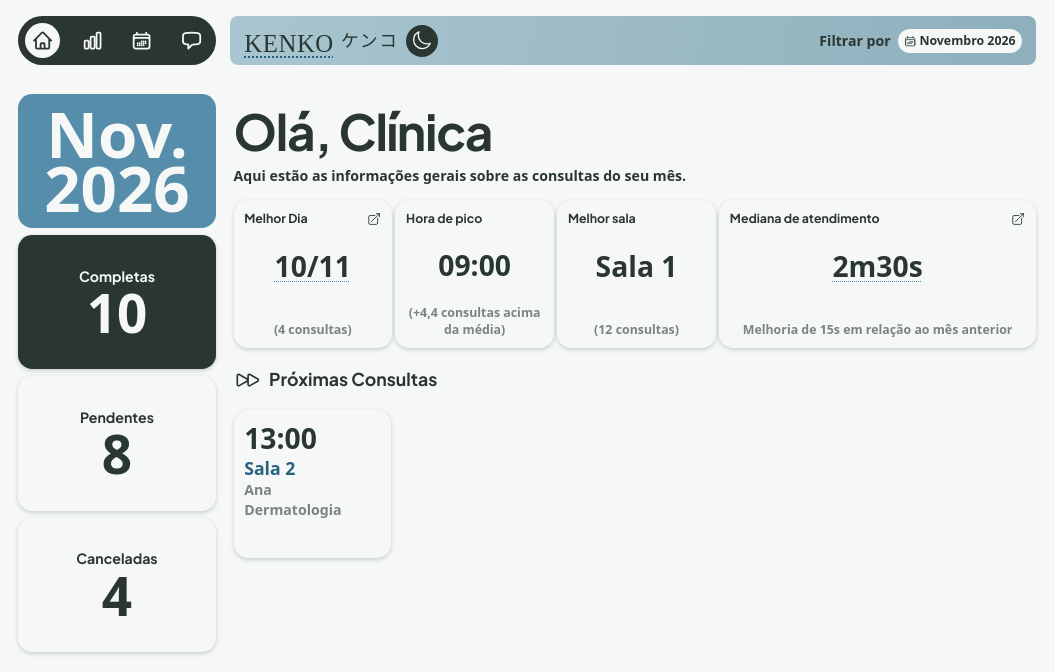
Test case: altera o período visual e mantém os dados do mock
Later steps or results of the test are not shown.
Click the heading named "Mês e ano": (960, 41) [898,29,1022,53]
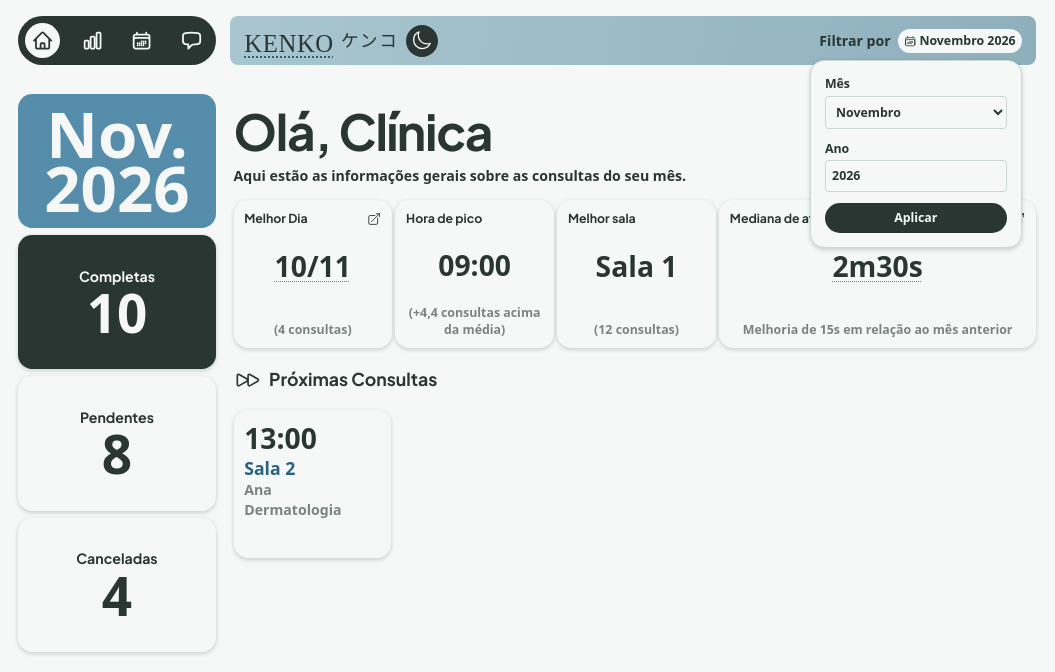
Select "Fevereiro" in the dropdown labelled "Mês": (916, 112) [825,96,1007,129]
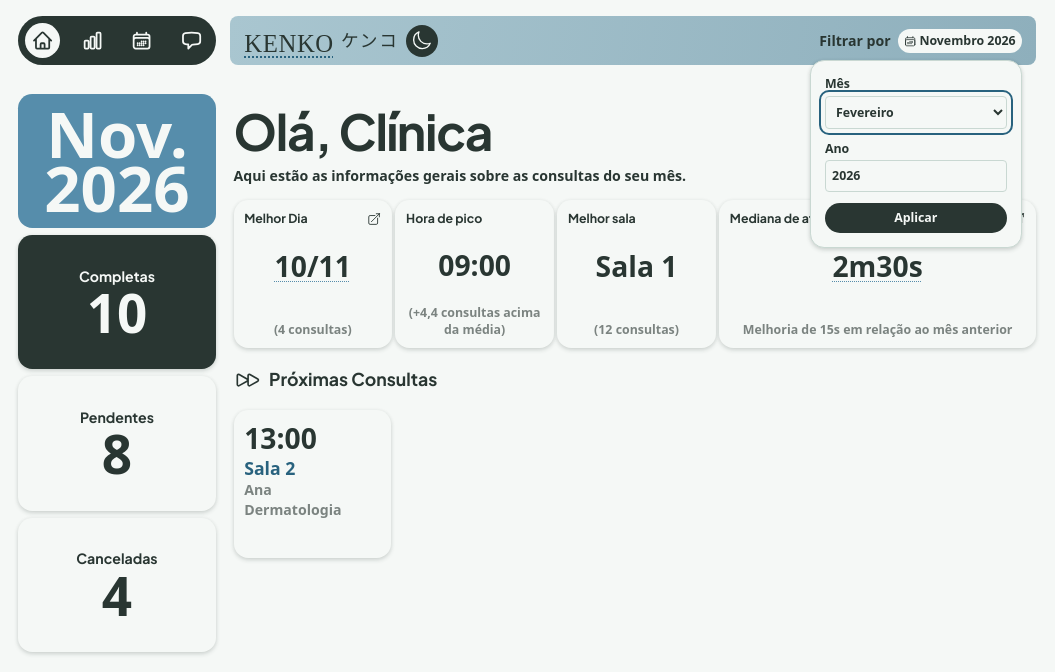
Replace the text in the number field labelled "Ano" with "2025": (916, 176) [825,160,1007,192]
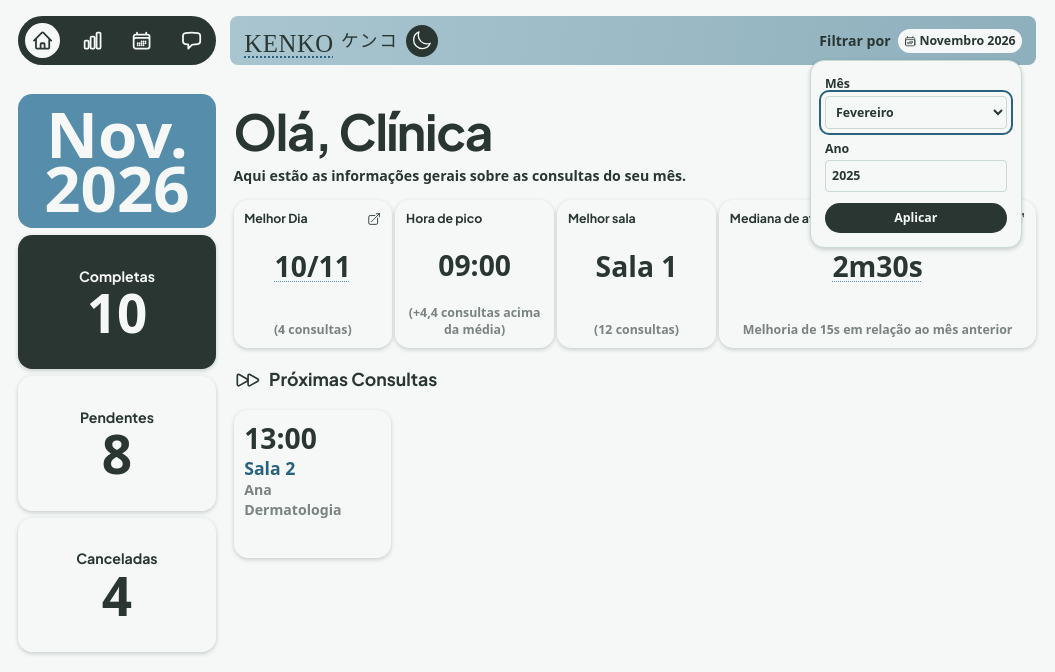
Click the button "Aplicar": (916, 218) [825,203,1007,233]
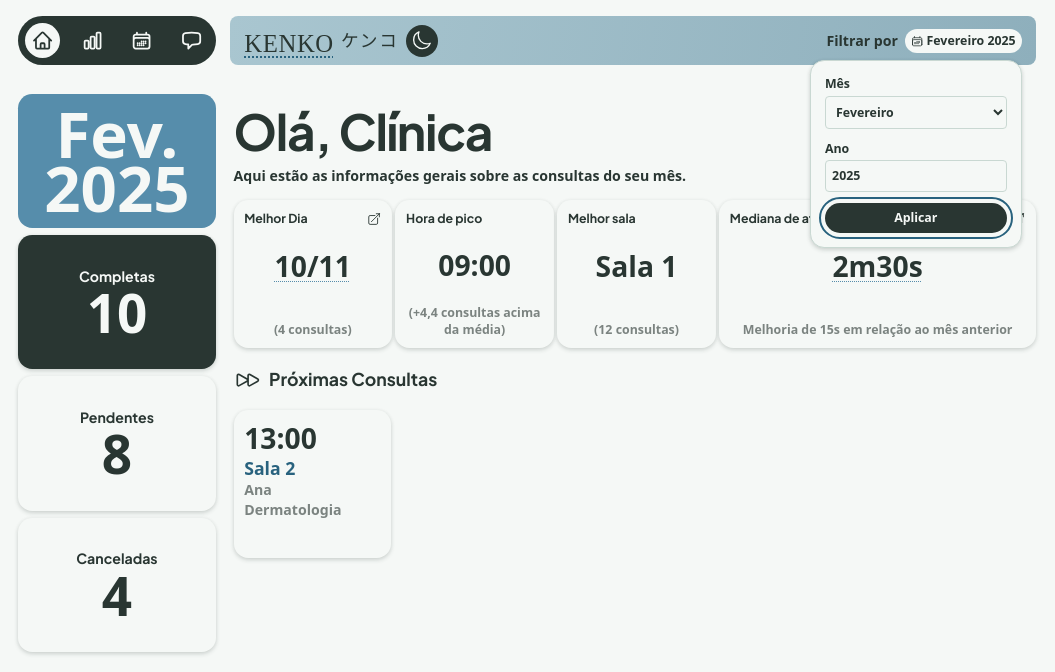
expect the element "Completas" shows "10": met, box [87,276,147,349]
expect the element named "Mês selecionado: 2025-02" reads "fev. 2025": met, box [18,94,216,228]
expect the heading named "Mês e ano" reads "Fevereiro 2025": met, box [905,29,1022,53]
